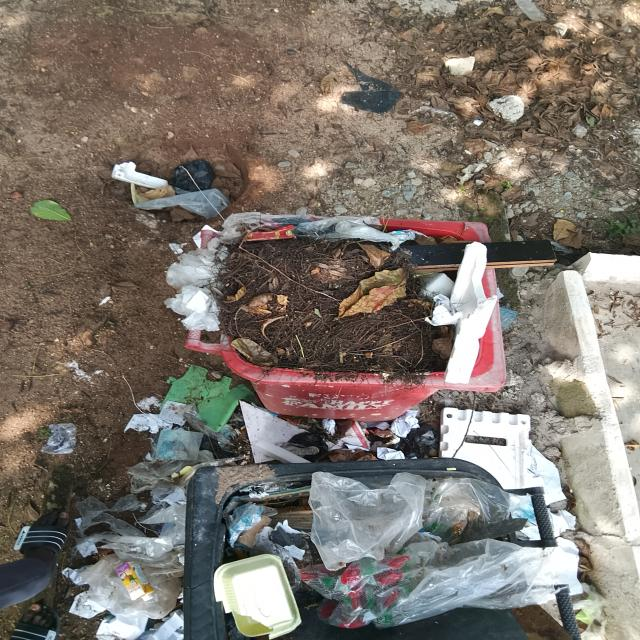overflowing: (186, 460, 580, 640), (172, 208, 510, 392)
